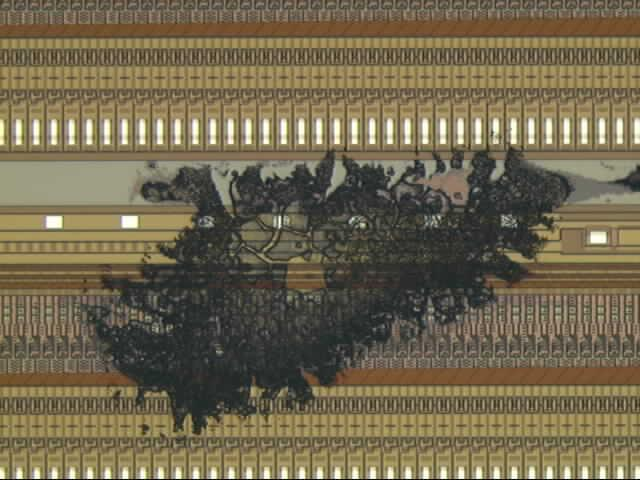COATING BAD: (79, 137, 640, 438)
